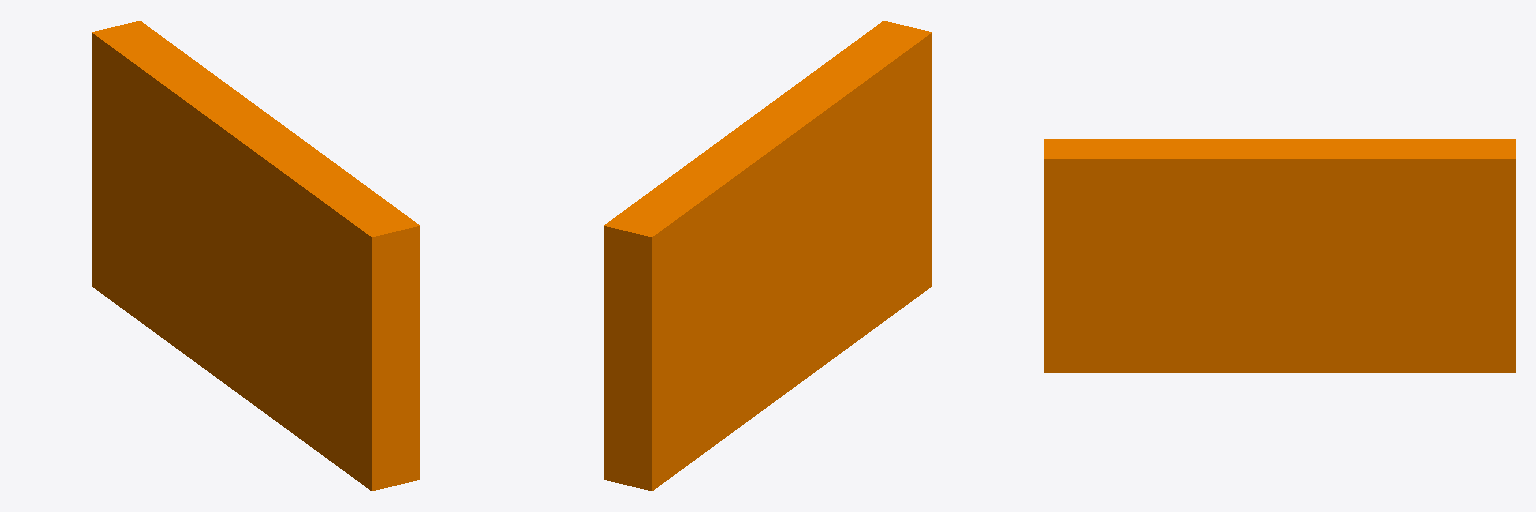
robot.urdf — wall_front_upper:
<?xml version="0.0" ?>
<robot name="wall_front_upper">
  <link name="base_link">
    <inertial>
      <origin rpy="0 0 0" xyz="0 0 0"/>
       <mass value=".1"/>
       <inertia ixx="1" ixy="0" ixz="0" iyy="1" iyz="0" izz="1"/>
    </inertial>
    
    <visual>
      <origin rpy="0 0 0" xyz="0 0 0"/>
      <geometry>
        <box size="0.1 1.0 0.5"/>
      </geometry>
      <material name="darkorange">
        <color rgba="1.0 0.549 0.0 1.0"/>
      </material>
    </visual>
  </link>
</robot>

--- Render facts (derived) ---
3 views of the same robot in one strip: view 1: azimuth 30°, elevation 25°; view 2: azimuth 150°, elevation 25°; view 3: azimuth 270°, elevation 25° (orthographic).
Model wall_front_upper with 1 links and 0 joints (none), rooted at base_link, posed all joints at 0.
Links seen in each view (by area): view 1: base_link; view 2: base_link; view 3: base_link.
Link boxes in pixels (x1,y1,x2,y2): base_link: (92,21,419,490); base_link: (604,21,931,490); base_link: (1044,139,1515,372).
Bounding box of the posed robot: 0.1 × 1 × 0.5 m (x, y, z).
Geometry: primitives only (box / cylinder / sphere), no mesh files.